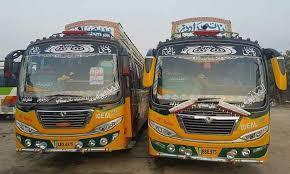bus: (144, 30, 280, 164), (10, 23, 143, 154)
